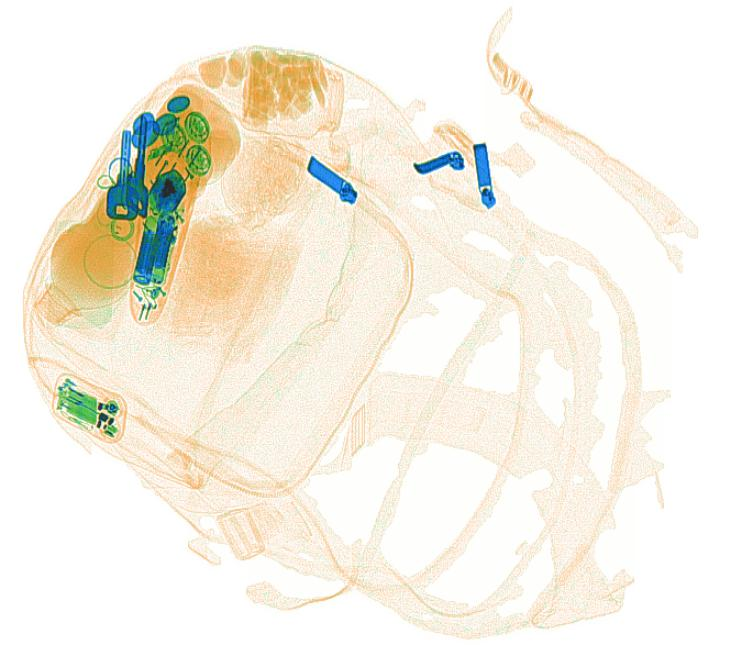battery: (131, 209, 175, 285)
